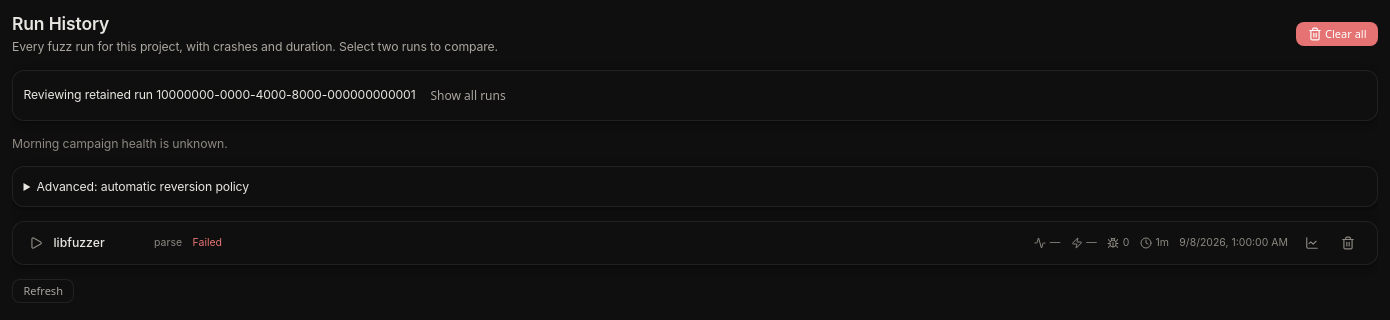
focuses the requested retained run and explains a missing history entry
expect the number of buttons named "Delete run" is 1: met, box [1335, 230, 1361, 256]
Click the button "Show all runs" at (468, 95), box [416, 81, 521, 109]
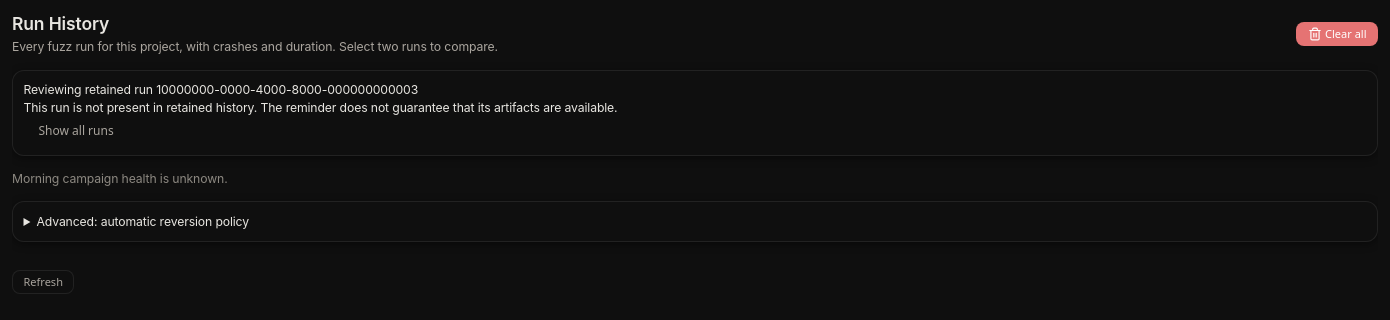
expect the text "This run is not present in retained history" is shown: met, box [24, 100, 618, 115]
